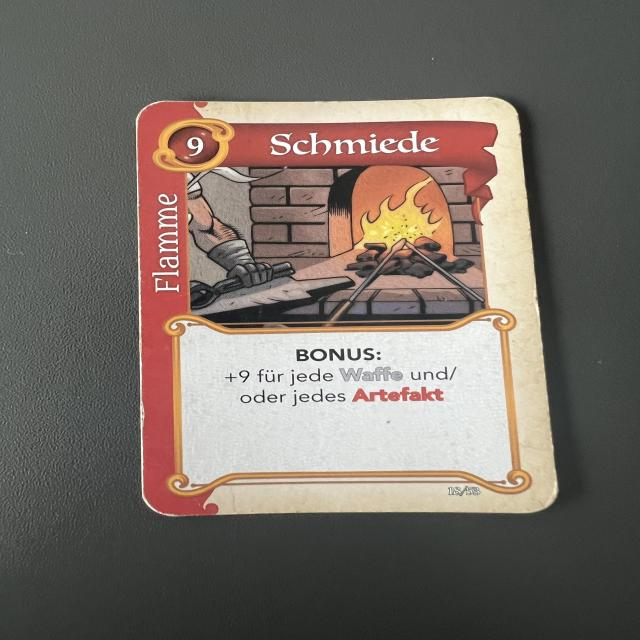Forge: (133, 93, 564, 520)
